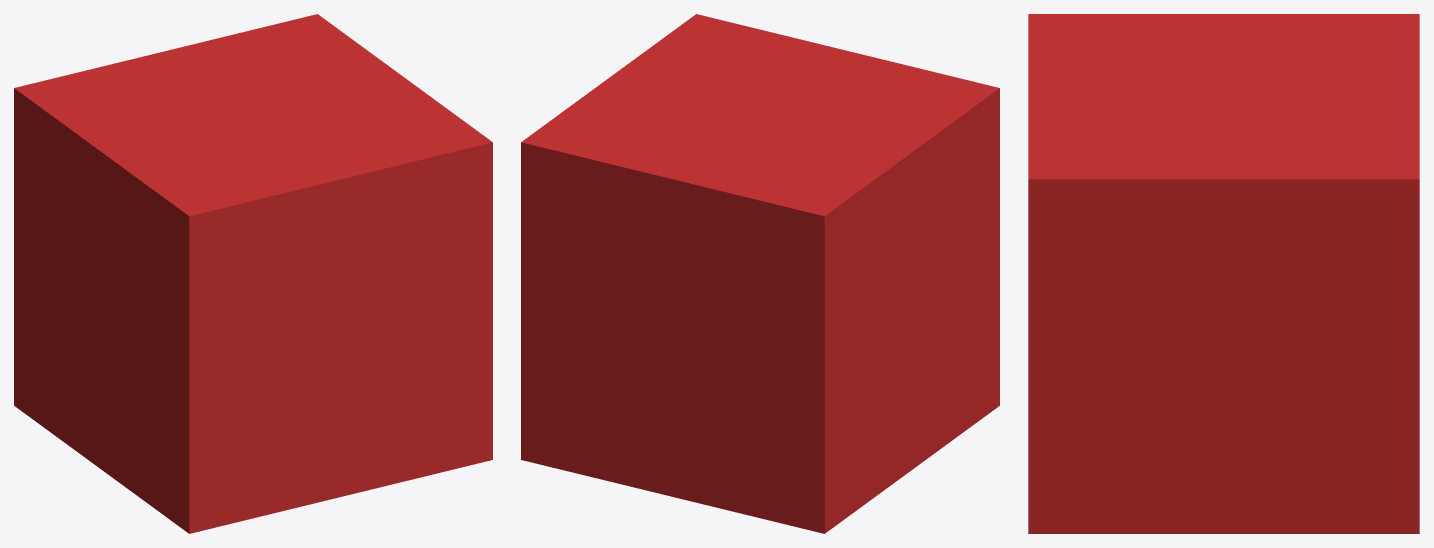
Rendered from UniformCube.fbx.
3 views of the same model, side by side, from view 1: azimuth 30°, elevation 25°; view 2: azimuth 150°, elevation 25°; view 3: azimuth 270°, elevation 25° (orthographic). The views are drawn at different scales.
Parts seen in each view (by area): view 1: UniformCube; view 2: UniformCube; view 3: UniformCube.
Boxes of the visible parts, x1=… form: UniformCube: x1=14, y1=14, x2=492, y2=533; UniformCube: x1=521, y1=14, x2=999, y2=533; UniformCube: x1=1028, y1=14, x2=1419, y2=533.
Bounding box in the file's own units: 100 × 100 × 100.
